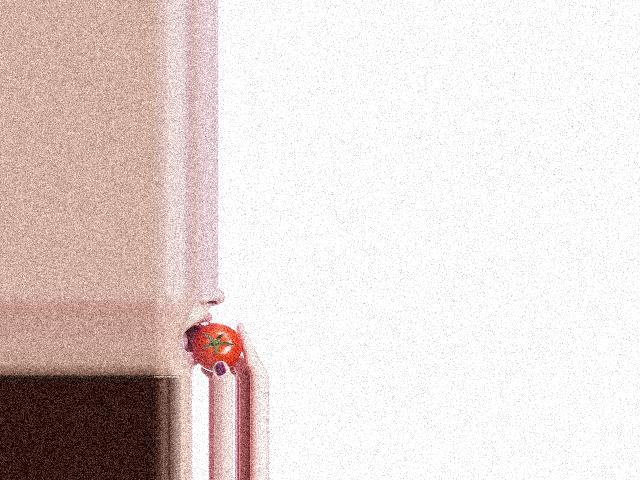tomato: (193, 323, 243, 372)
